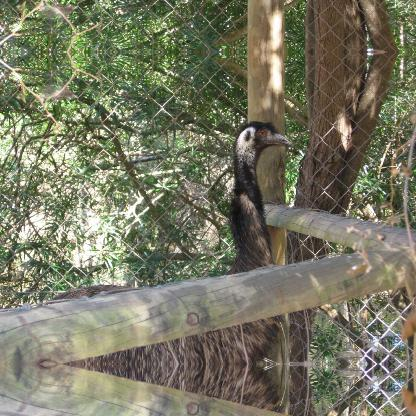Bird: (47, 121, 290, 363), (47, 365, 291, 415)
